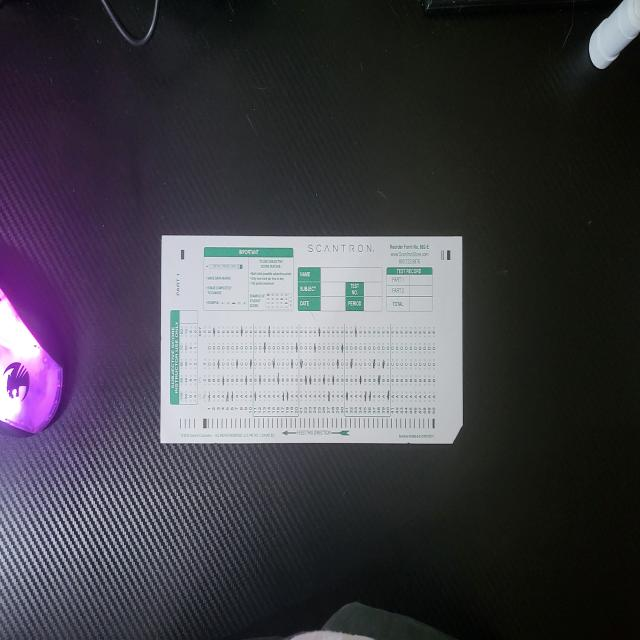scantron: (160, 235, 462, 444)
